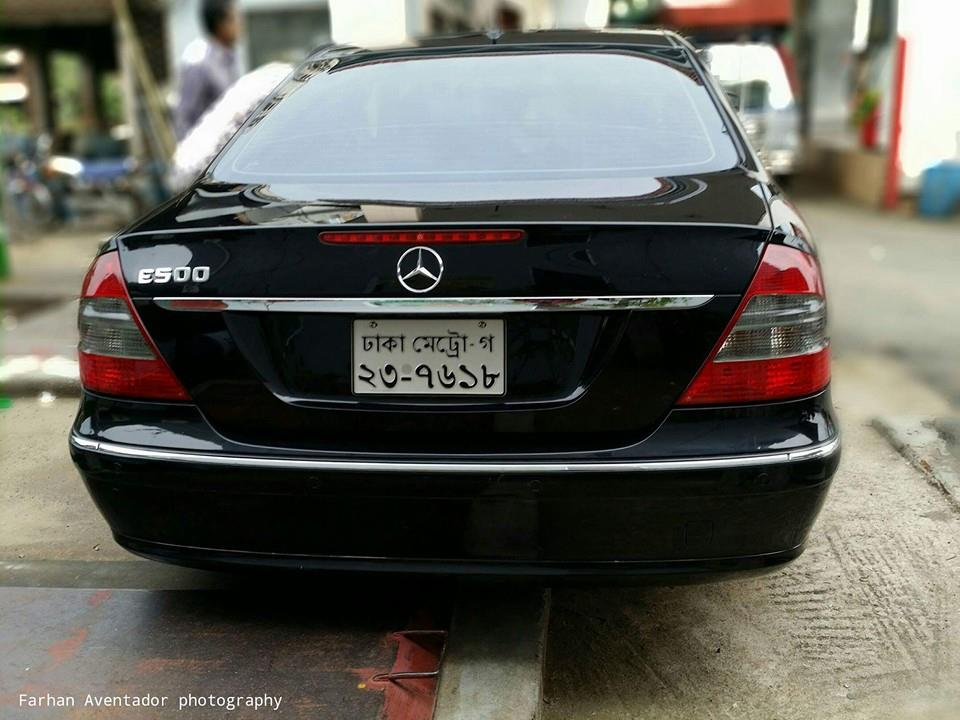registration_plate: (352, 318, 508, 397)
